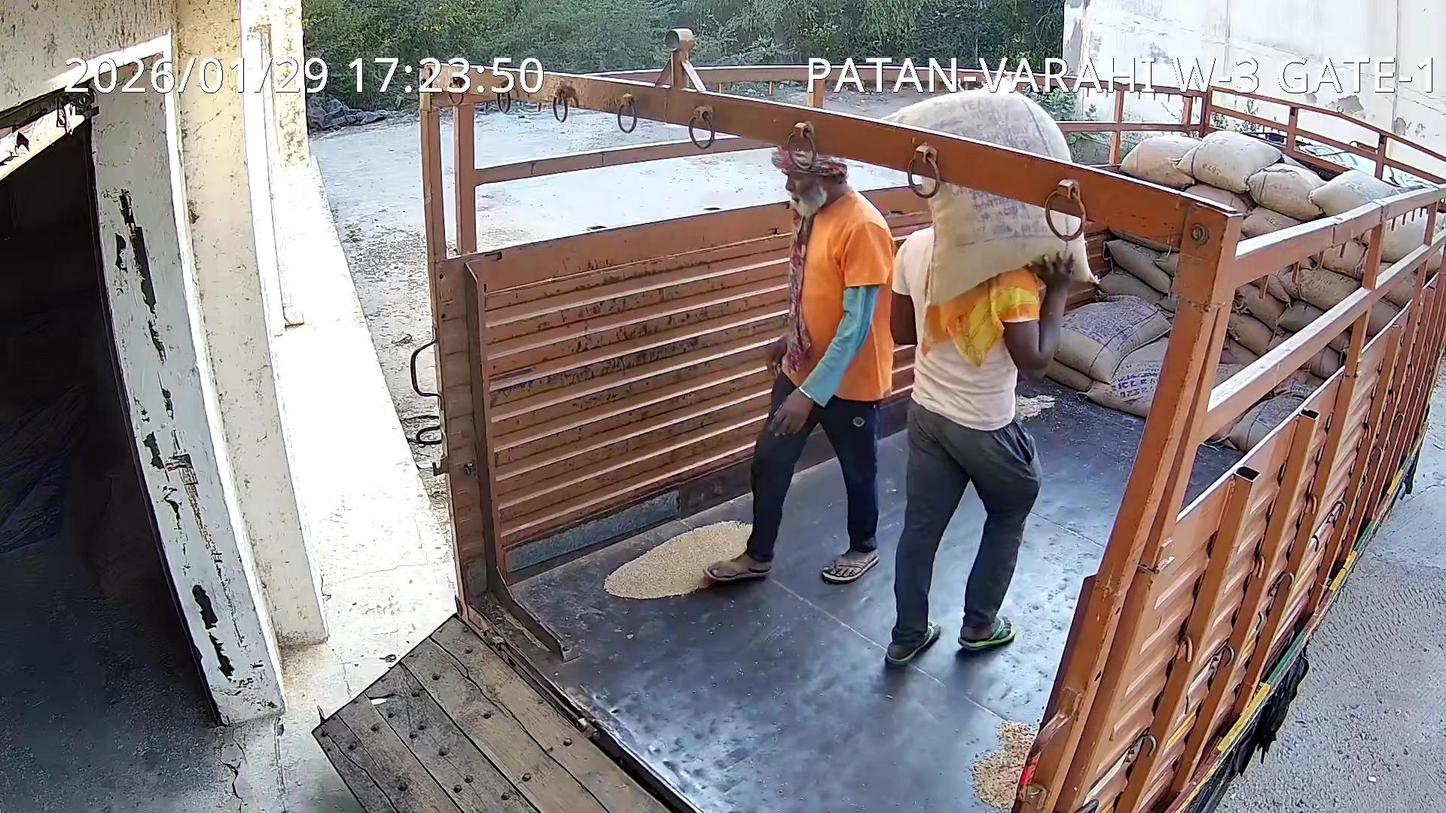Sack: (906, 159, 1093, 305), (884, 89, 1071, 162)
